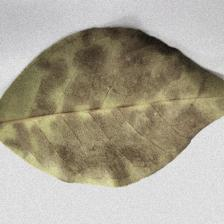black spot: (41, 60, 171, 145)
